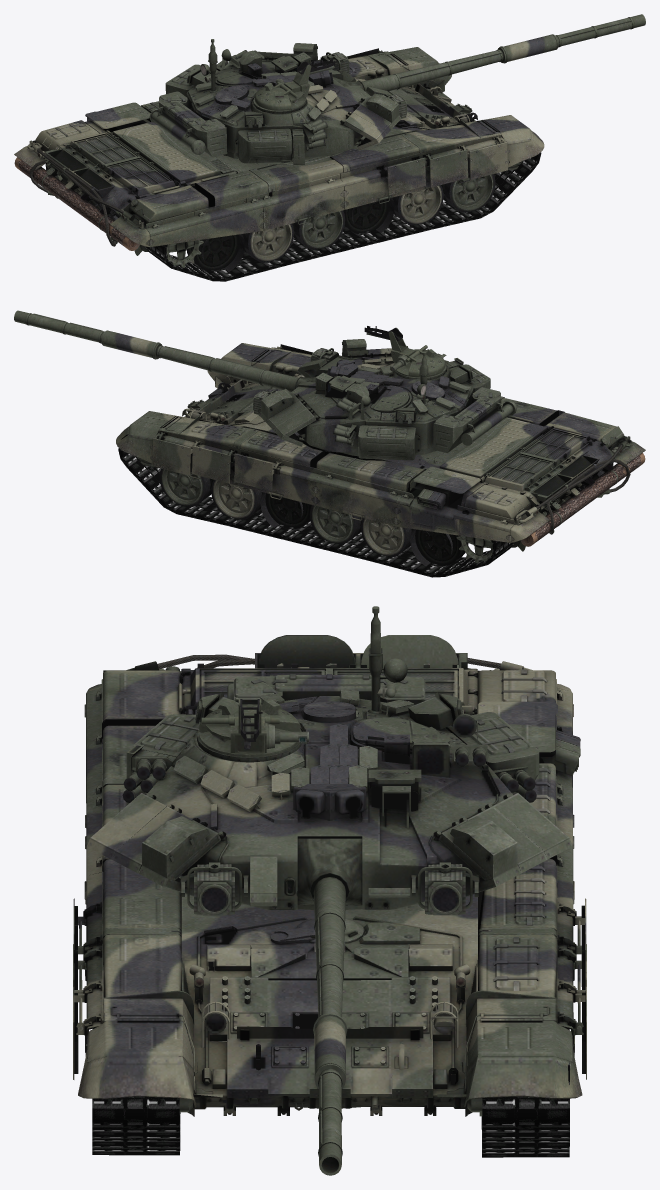
The picture shows the model from 3 angles, top to bottom: view 1: azimuth 30°, elevation 25°; view 2: azimuth 150°, elevation 25°; view 3: azimuth 270°, elevation 25°; orthographic projection. The views are drawn at different scales.
Parts seen in each view (by area): view 1: Object_8, Object_14, Object_10, Object_16, Object_6, Object_18, Object_12; view 2: Object_8, Object_14, Object_10, Object_16, Object_6, Object_18, Object_12; view 3: Object_8, Object_14, Object_16, Object_10, Object_12, Object_18, Object_6.
Boxes of the visible parts, bbox=[...] form: Object_8: bbox=[14, 47, 544, 255]; Object_14: bbox=[149, 39, 406, 165]; Object_10: bbox=[69, 61, 522, 272]; Object_16: bbox=[82, 14, 645, 195]; Object_6: bbox=[14, 57, 449, 267]; Object_18: bbox=[45, 137, 541, 281]; Object_12: bbox=[57, 90, 507, 179]; Object_8: bbox=[116, 343, 645, 551]; Object_14: bbox=[253, 348, 516, 460]; Object_10: bbox=[137, 327, 591, 569]; Object_16: bbox=[14, 310, 588, 483]; Object_6: bbox=[225, 353, 645, 563]; Object_18: bbox=[118, 433, 613, 577]; Object_12: bbox=[234, 344, 562, 491]; Object_8: bbox=[74, 653, 585, 1116]; Object_14: bbox=[122, 606, 539, 915]; Object_16: bbox=[73, 635, 586, 1175]; Object_10: bbox=[112, 663, 467, 1097]; Object_12: bbox=[73, 635, 586, 1116]; Object_18: bbox=[92, 1028, 569, 1157]; Object_6: bbox=[87, 838, 572, 1028].
Size of the model in its own units: 192 by 56.35 by 74.38.
Materials: 2 (2 with a texture image).
